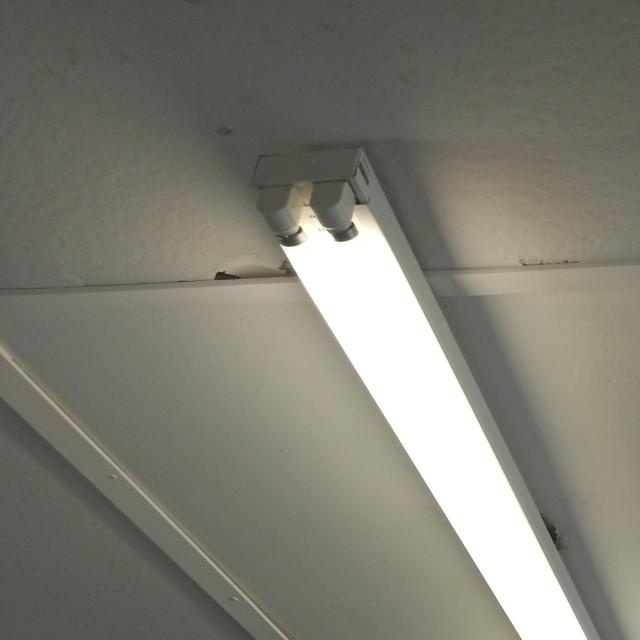fluorescent tube: (209, 131, 640, 640)
